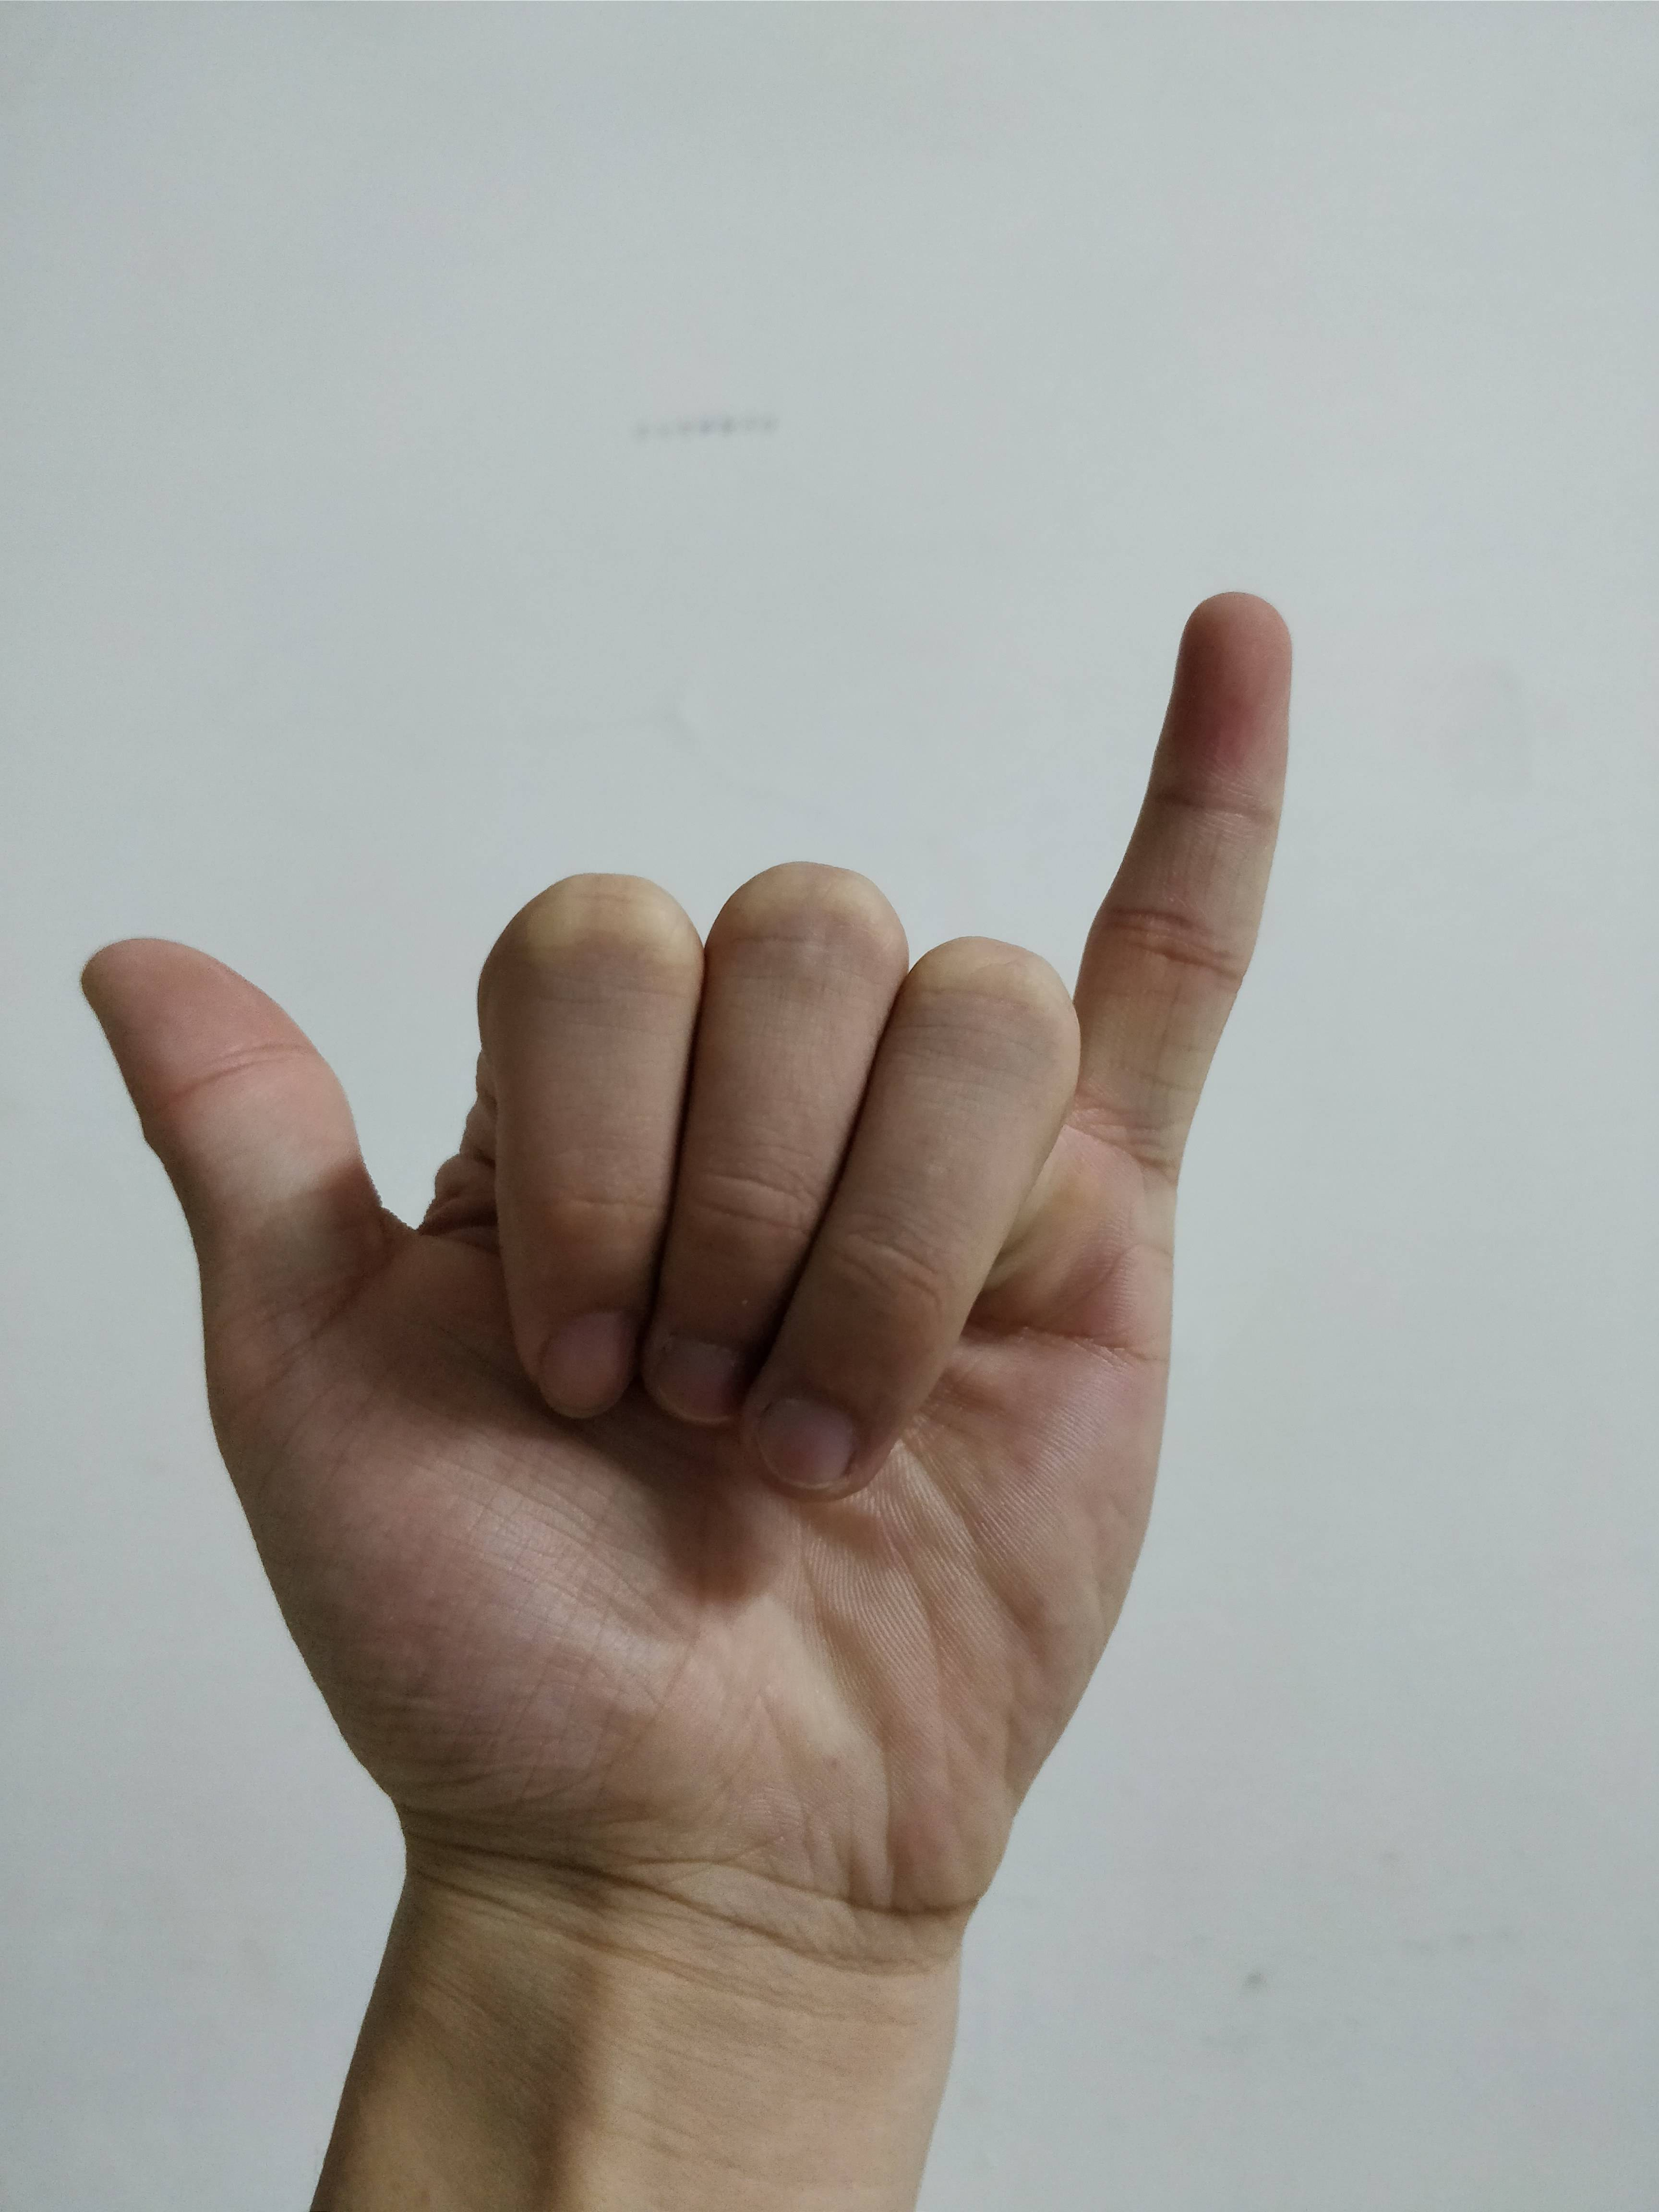clockwise: (89, 573, 1317, 1841)
